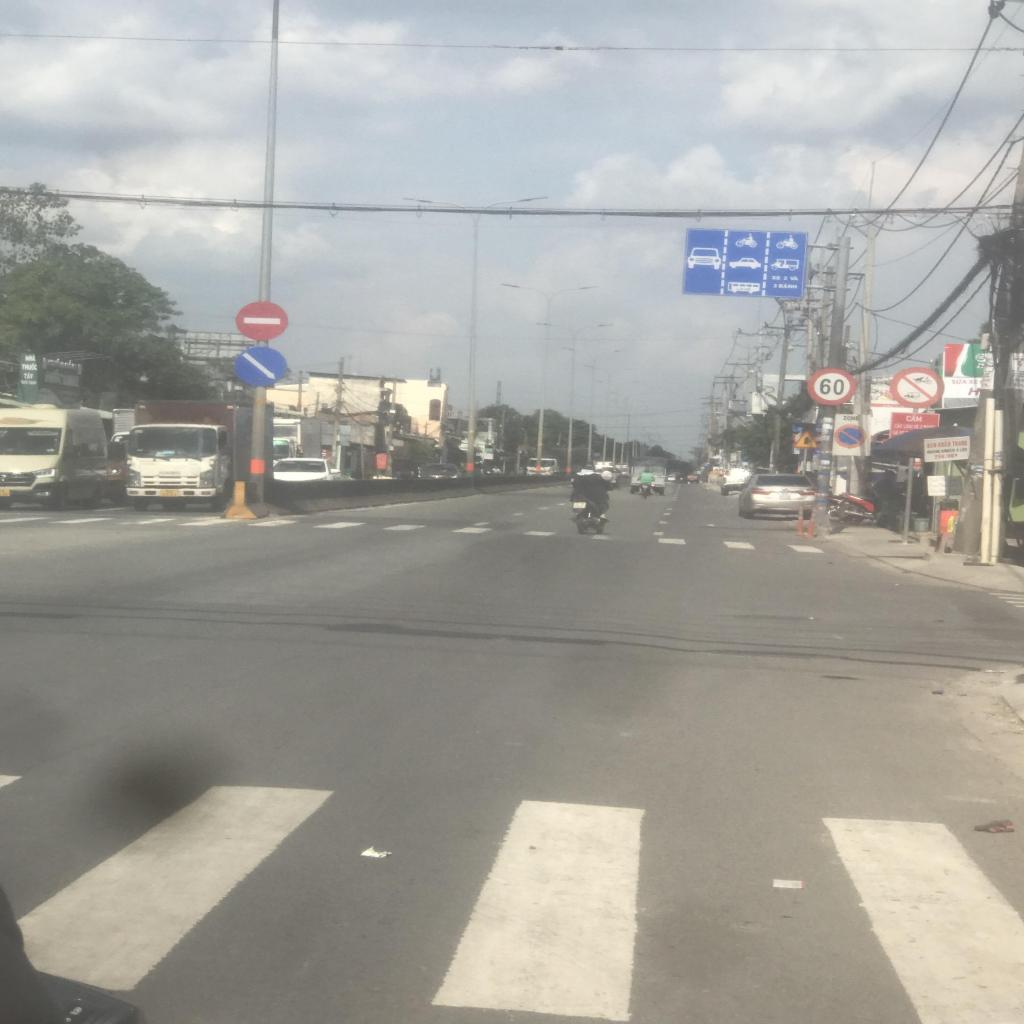cam_cac_loai_xe_3_banh: (892, 368, 944, 408)
cam_do_xe: (835, 424, 866, 448)
cam_xe_di_nguoc_chieu: (235, 302, 290, 340)
giao_nhau_voi_duong_khong_uu_tien: (792, 430, 818, 448)
huong_phai_di_vuot_chuong_ngai_vat_phai: (232, 346, 286, 386)
lan_duong_cho_tung_xe_theo_vach_ke_duong: (685, 228, 806, 297)
toc_do_toi_da_60: (806, 368, 856, 406)
